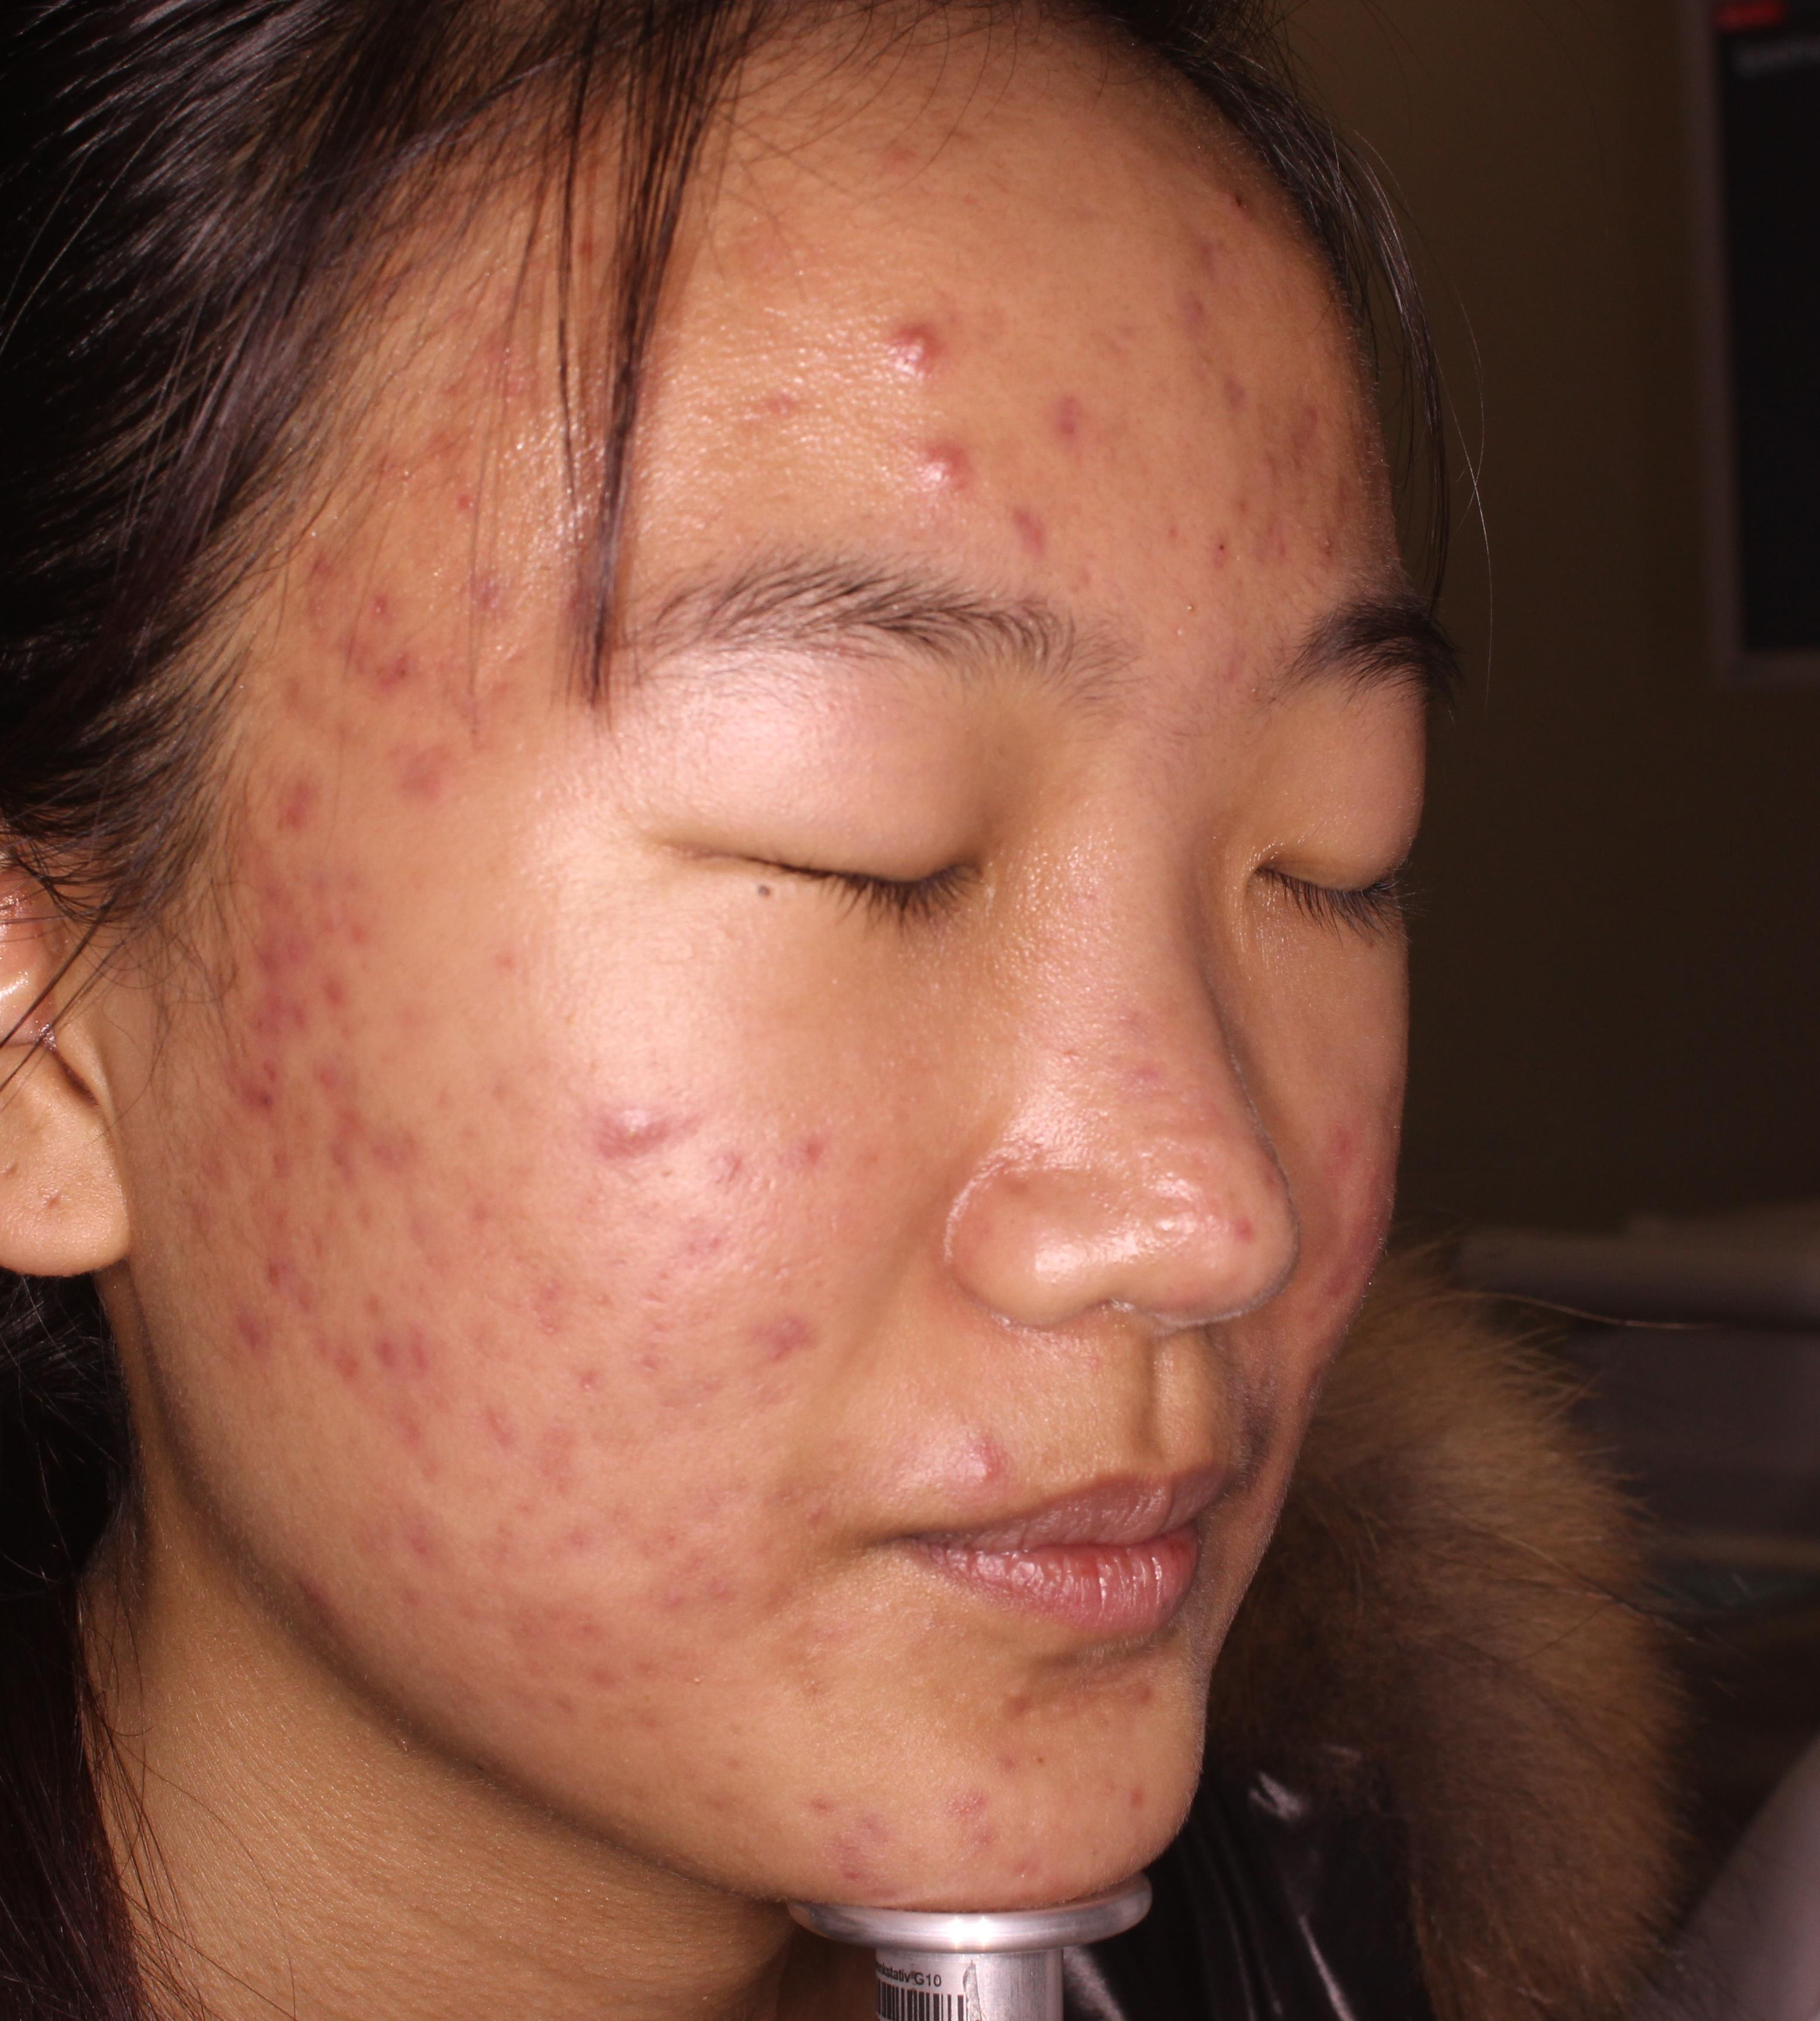fore: (1068, 1638, 1219, 1754), (606, 1078, 699, 1213), (1233, 374, 1346, 483), (982, 1638, 1068, 1768), (274, 1580, 378, 1675), (364, 1315, 471, 1406), (225, 989, 311, 1101), (216, 904, 311, 1003), (910, 425, 1001, 527), (181, 824, 288, 908), (369, 752, 471, 832), (441, 318, 525, 414), (300, 936, 381, 1029), (1184, 506, 1279, 581), (942, 1428, 1031, 1505), (381, 1500, 481, 1568), (1138, 218, 1210, 313), (265, 760, 346, 838), (300, 1298, 364, 1387), (750, 1298, 826, 1370), (459, 1370, 534, 1442), (283, 536, 360, 604), (332, 1118, 404, 1190), (274, 1262, 351, 1329), (297, 878, 364, 953), (213, 1262, 274, 1343), (311, 1069, 381, 1136), (346, 653, 436, 702), (1022, 393, 1123, 425), (346, 581, 401, 636), (987, 486, 1028, 544), (870, 313, 910, 370)
